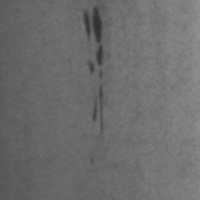inclusion: (87, 43, 109, 141), (80, 2, 106, 45)
